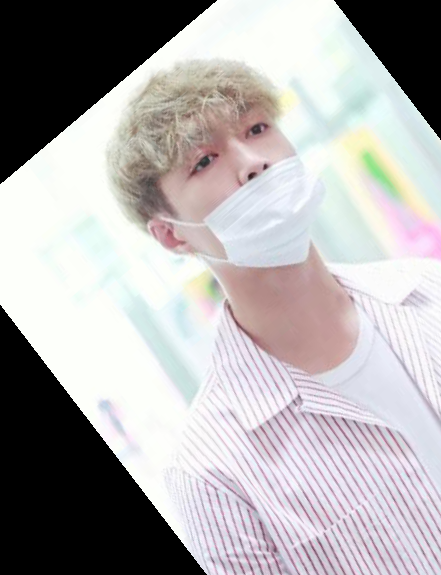mask_weared_incorrect: (100, 54, 336, 280)
